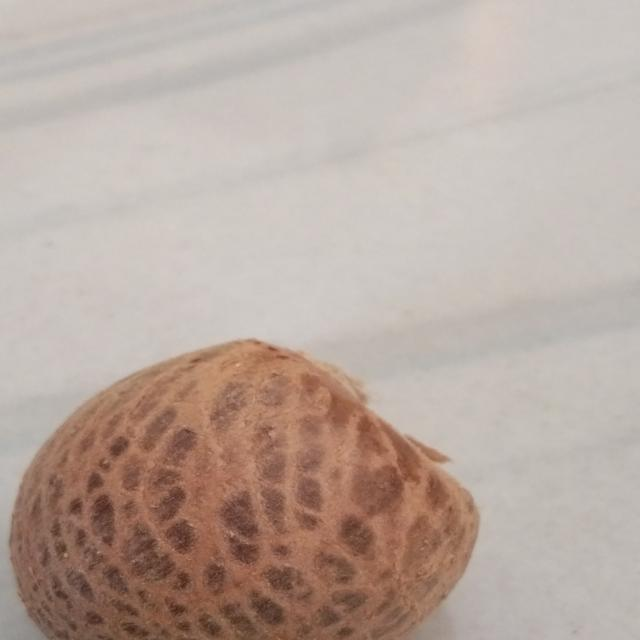good: (0, 318, 514, 640)
